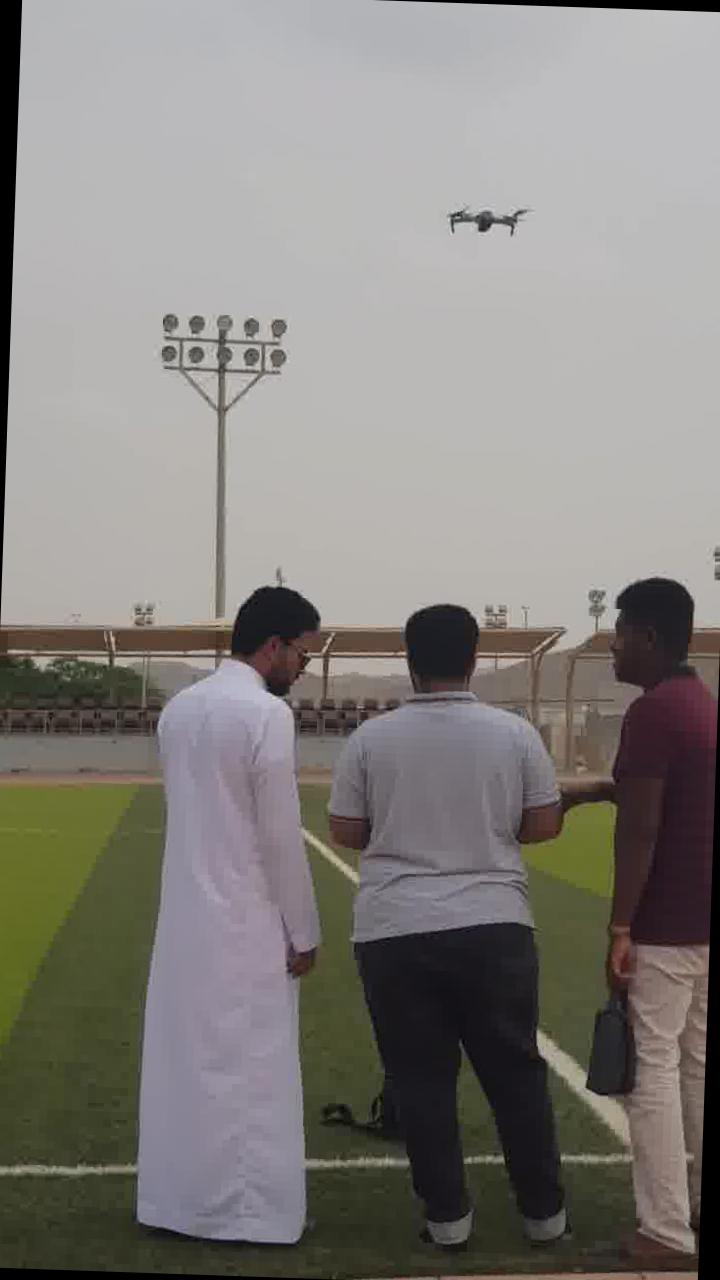drone: (434, 194, 536, 243)
